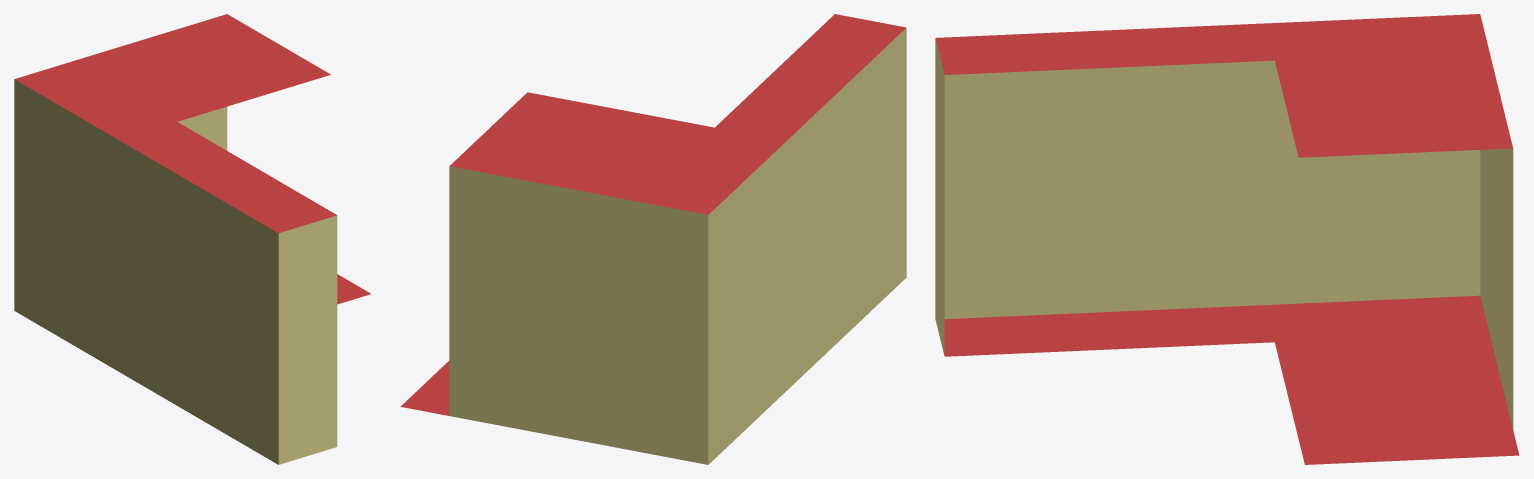
The picture shows the model from 3 angles, left to right: view 1: azimuth 30°, elevation 25°; view 2: azimuth 150°, elevation 25°; view 3: azimuth 270°, elevation 25°; orthographic projection. The views are drawn at different scales.
Bounding box in the file's own units: 8.44 × 12.31 × 6.55.
